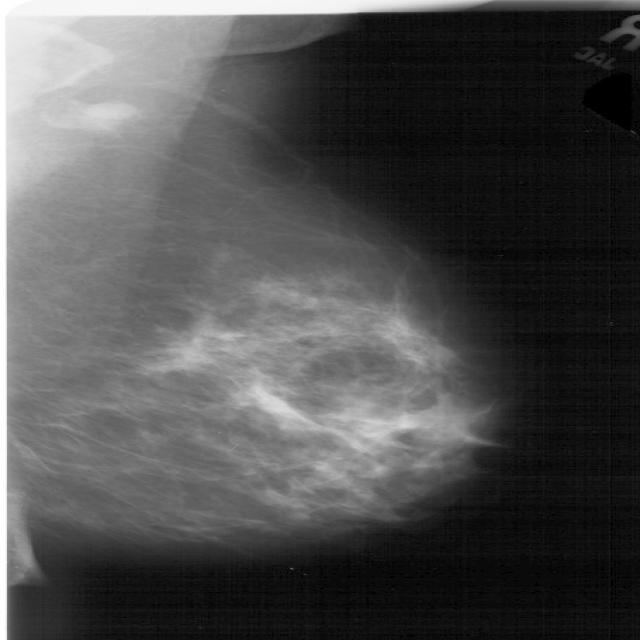tumour: (131, 319, 229, 377)
